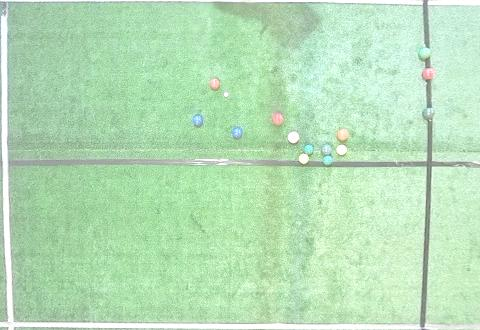blue: (231, 127, 243, 139), (192, 114, 203, 127)
green: (418, 47, 431, 60), (422, 108, 435, 120), (321, 144, 332, 156), (304, 144, 314, 155), (322, 156, 333, 165)
red: (422, 67, 434, 80), (272, 112, 283, 126), (287, 131, 299, 143), (337, 129, 349, 141), (209, 78, 220, 90)
vline: (420, 117, 480, 329), (0, 1, 19, 329), (422, 1, 479, 47), (425, 78, 479, 108)
white: (224, 92, 229, 97)
yellow: (336, 145, 348, 156), (298, 154, 309, 164)
